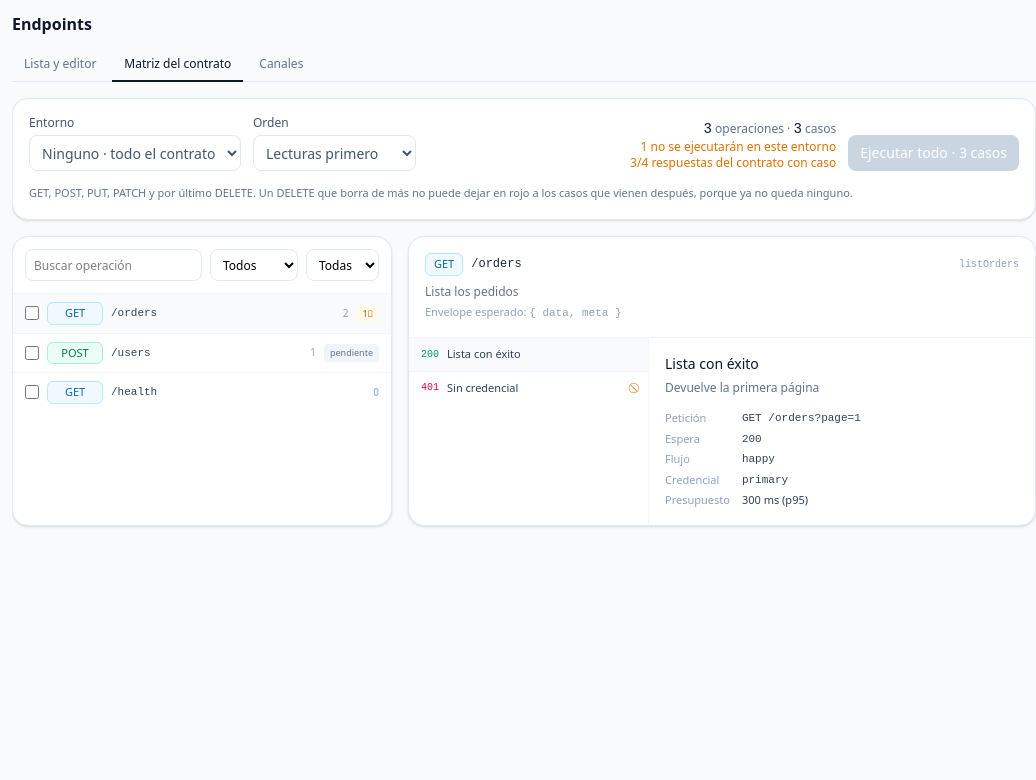
Test: MatrixPage › un caso bloqueado dice por qué y un caso sin presupuesto no afirma nada
The width and height of the screenshot is (1036, 780).
What coordinates should you click on to do the following:
click the text "Sin credencial"
I would click on:
 (483, 387)
Its box is [447,380,518,394].
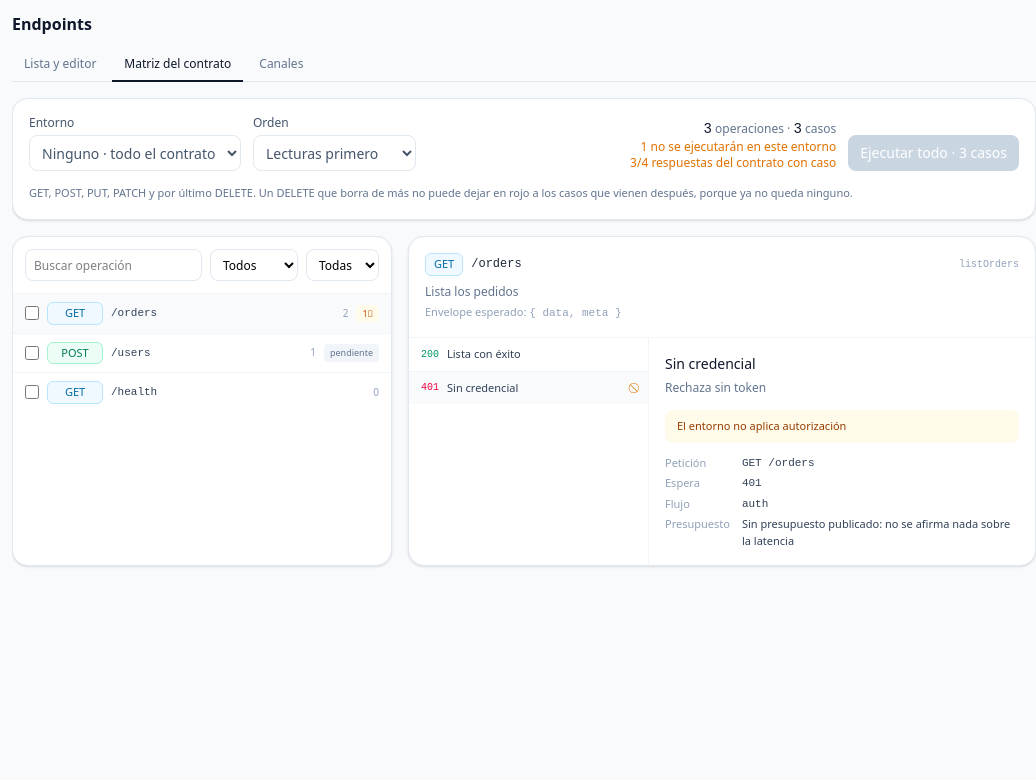
expect the text "El entorno no aplica autorización" is shown: met, box [665,410,1019,442]
expect the text "Sin presupuesto publicado: no se afirma nada sobre la latencia" is shown: met, box [742,516,1019,549]
